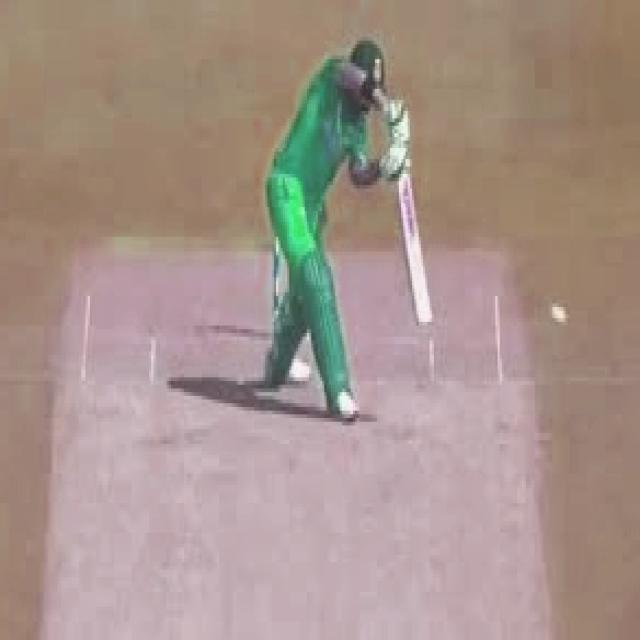bat: (390, 176, 445, 333)
toe: (412, 318, 438, 329)
